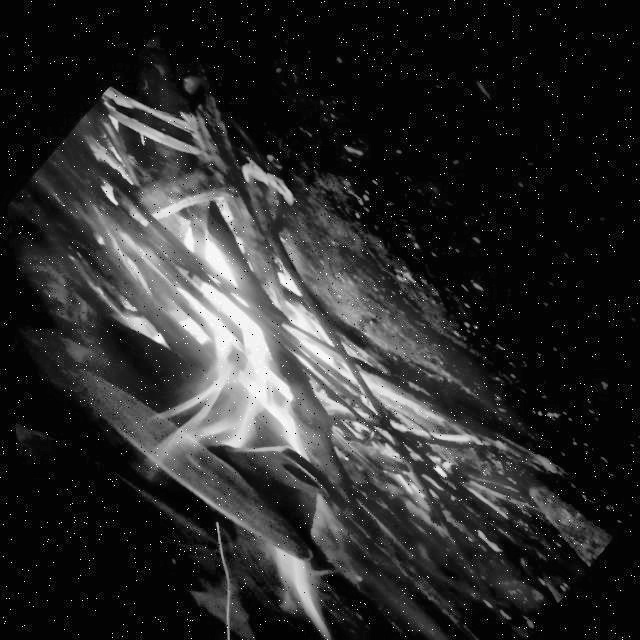Fire: (40, 186, 397, 558), (238, 530, 359, 640)
